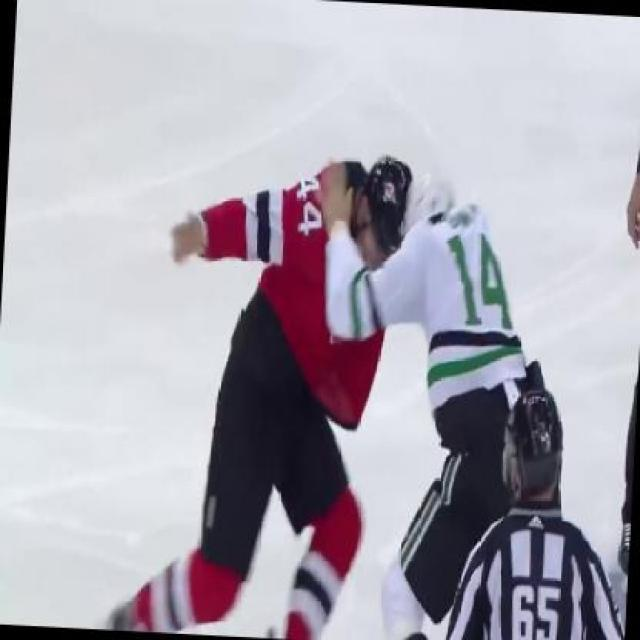fight: (149, 143, 540, 639)
